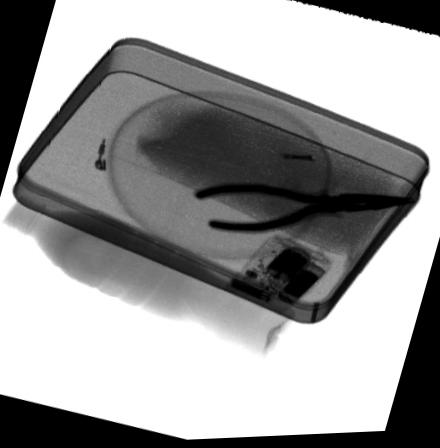Pliers: (191, 182, 417, 236)
